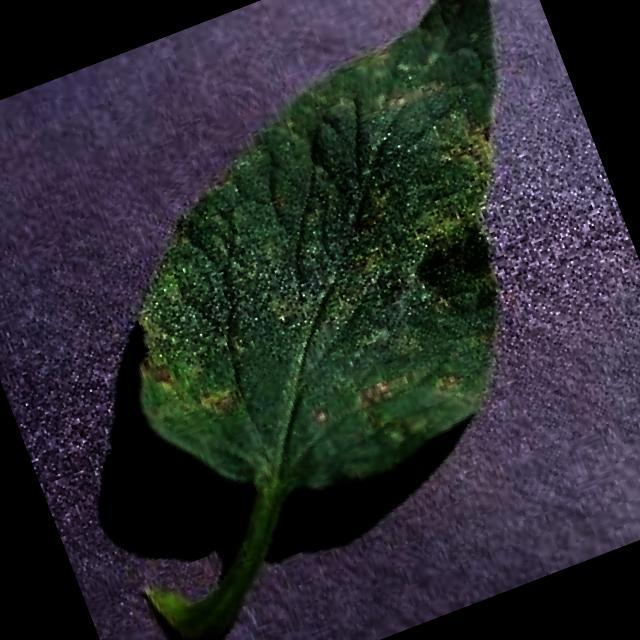Tomato Septoria spot leaf: (33, 0, 639, 546)
